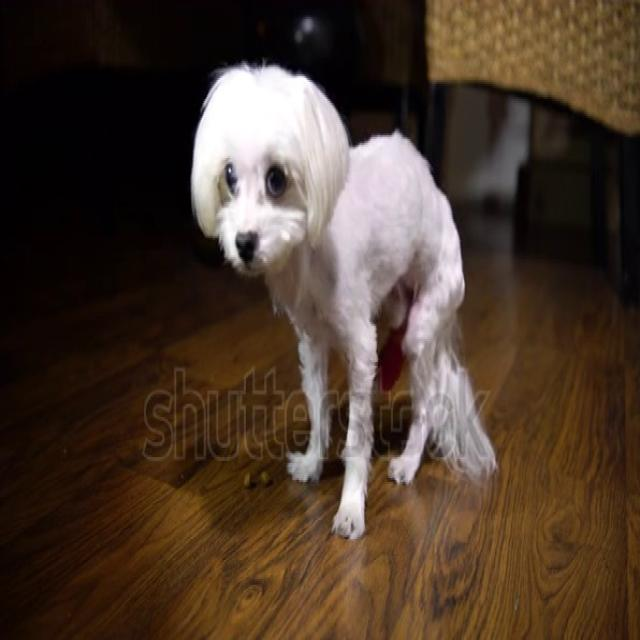normal_animals: (187, 55, 500, 545)
